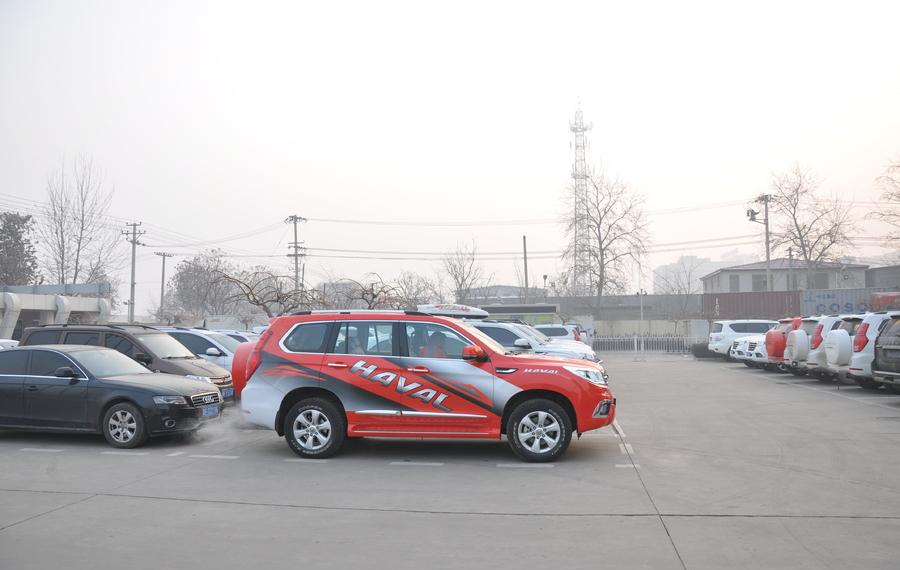car: (231, 306, 617, 463), (343, 301, 610, 430), (1, 343, 225, 450), (14, 319, 234, 421), (137, 327, 265, 401), (494, 321, 599, 379), (782, 310, 863, 381), (743, 311, 826, 374), (808, 311, 880, 379), (825, 310, 889, 385), (764, 310, 838, 373), (729, 317, 809, 367), (707, 319, 787, 363), (850, 308, 893, 389), (868, 310, 900, 399), (524, 321, 589, 359)
